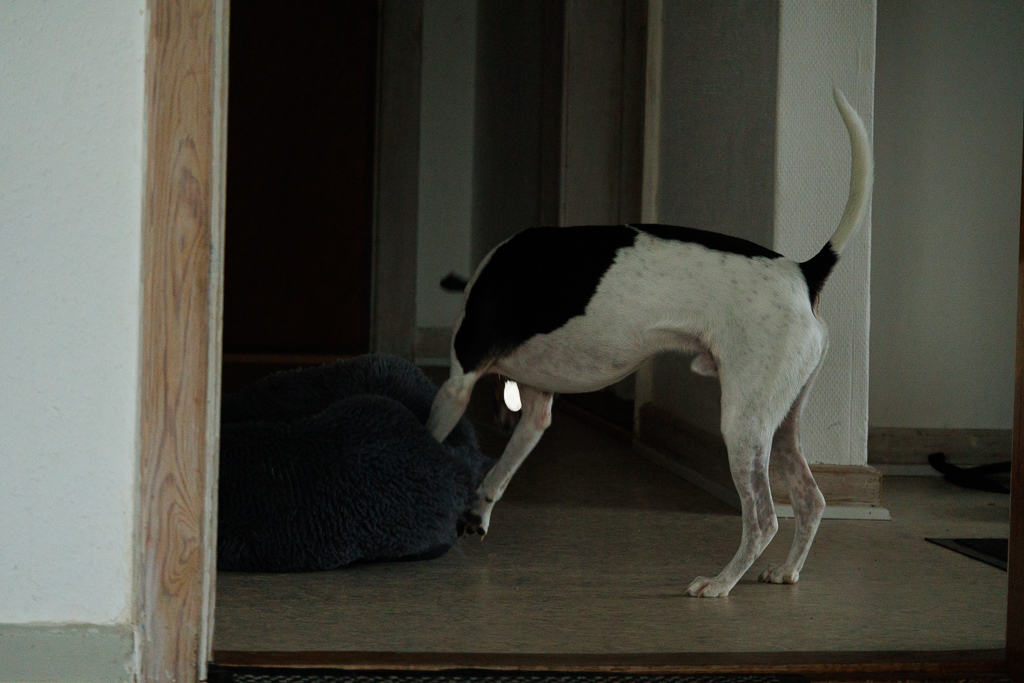Dog: (400, 81, 880, 609)
